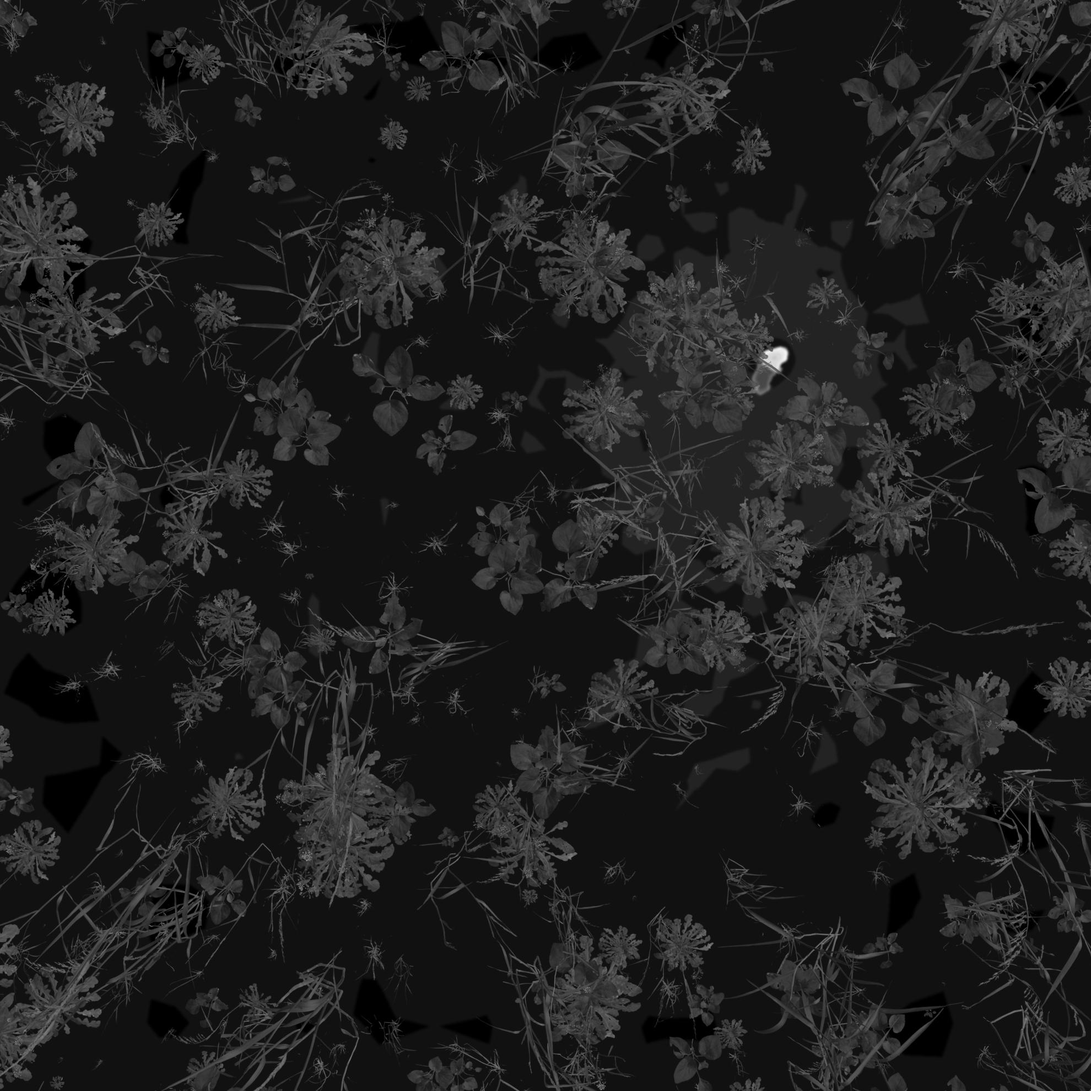landmine: (750, 345, 791, 395)
